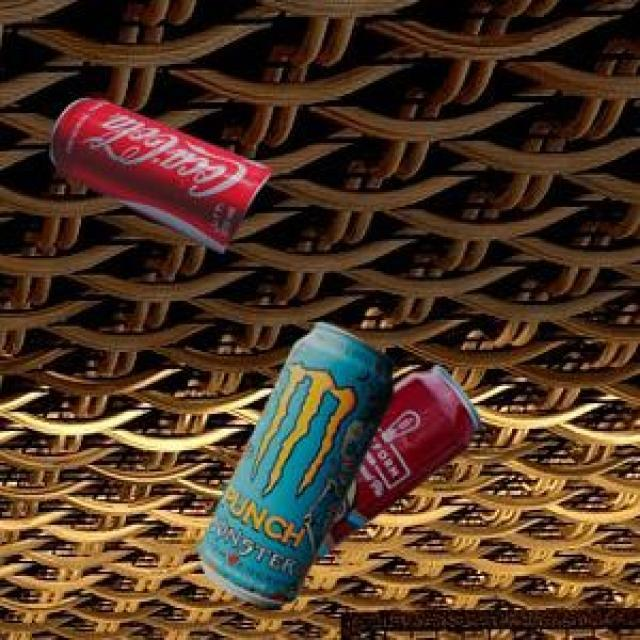Can: (195, 319, 391, 605), (48, 95, 267, 251), (310, 362, 479, 560)
